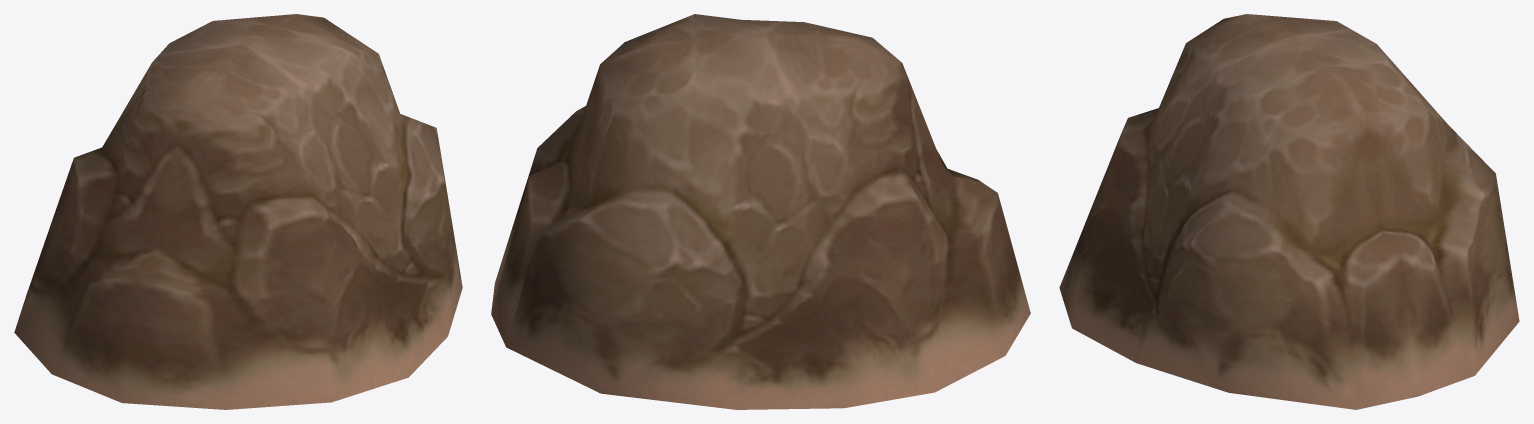
Rendered from FB5_shishan_10.FBX.
3 renders of one model, left to right at view 1: azimuth 30°, elevation 25°; view 2: azimuth 150°, elevation 25°; view 3: azimuth 270°, elevation 25°, orthographic. The views are drawn at different scales.
Parts seen in each view (by area): view 1: FB5_shishan_10; view 2: FB5_shishan_10; view 3: FB5_shishan_10.
Boxes of the visible parts, x1,y1,x2,y2 form: FB5_shishan_10: (14, 14, 462, 409); FB5_shishan_10: (491, 14, 1030, 409); FB5_shishan_10: (1059, 14, 1519, 409).
Size of the model in its own units: 249 by 147 by 231.
1 material, 1 textured.
